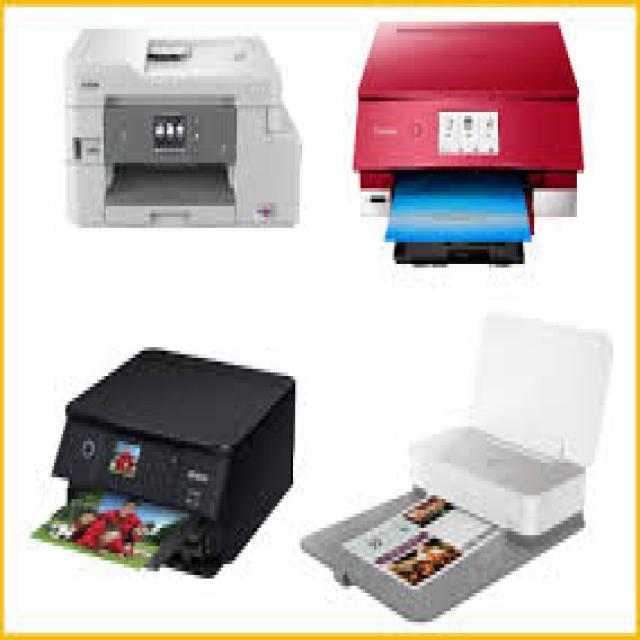printer: (295, 301, 623, 640), (22, 316, 304, 590), (32, 15, 317, 256), (350, 21, 612, 281)
